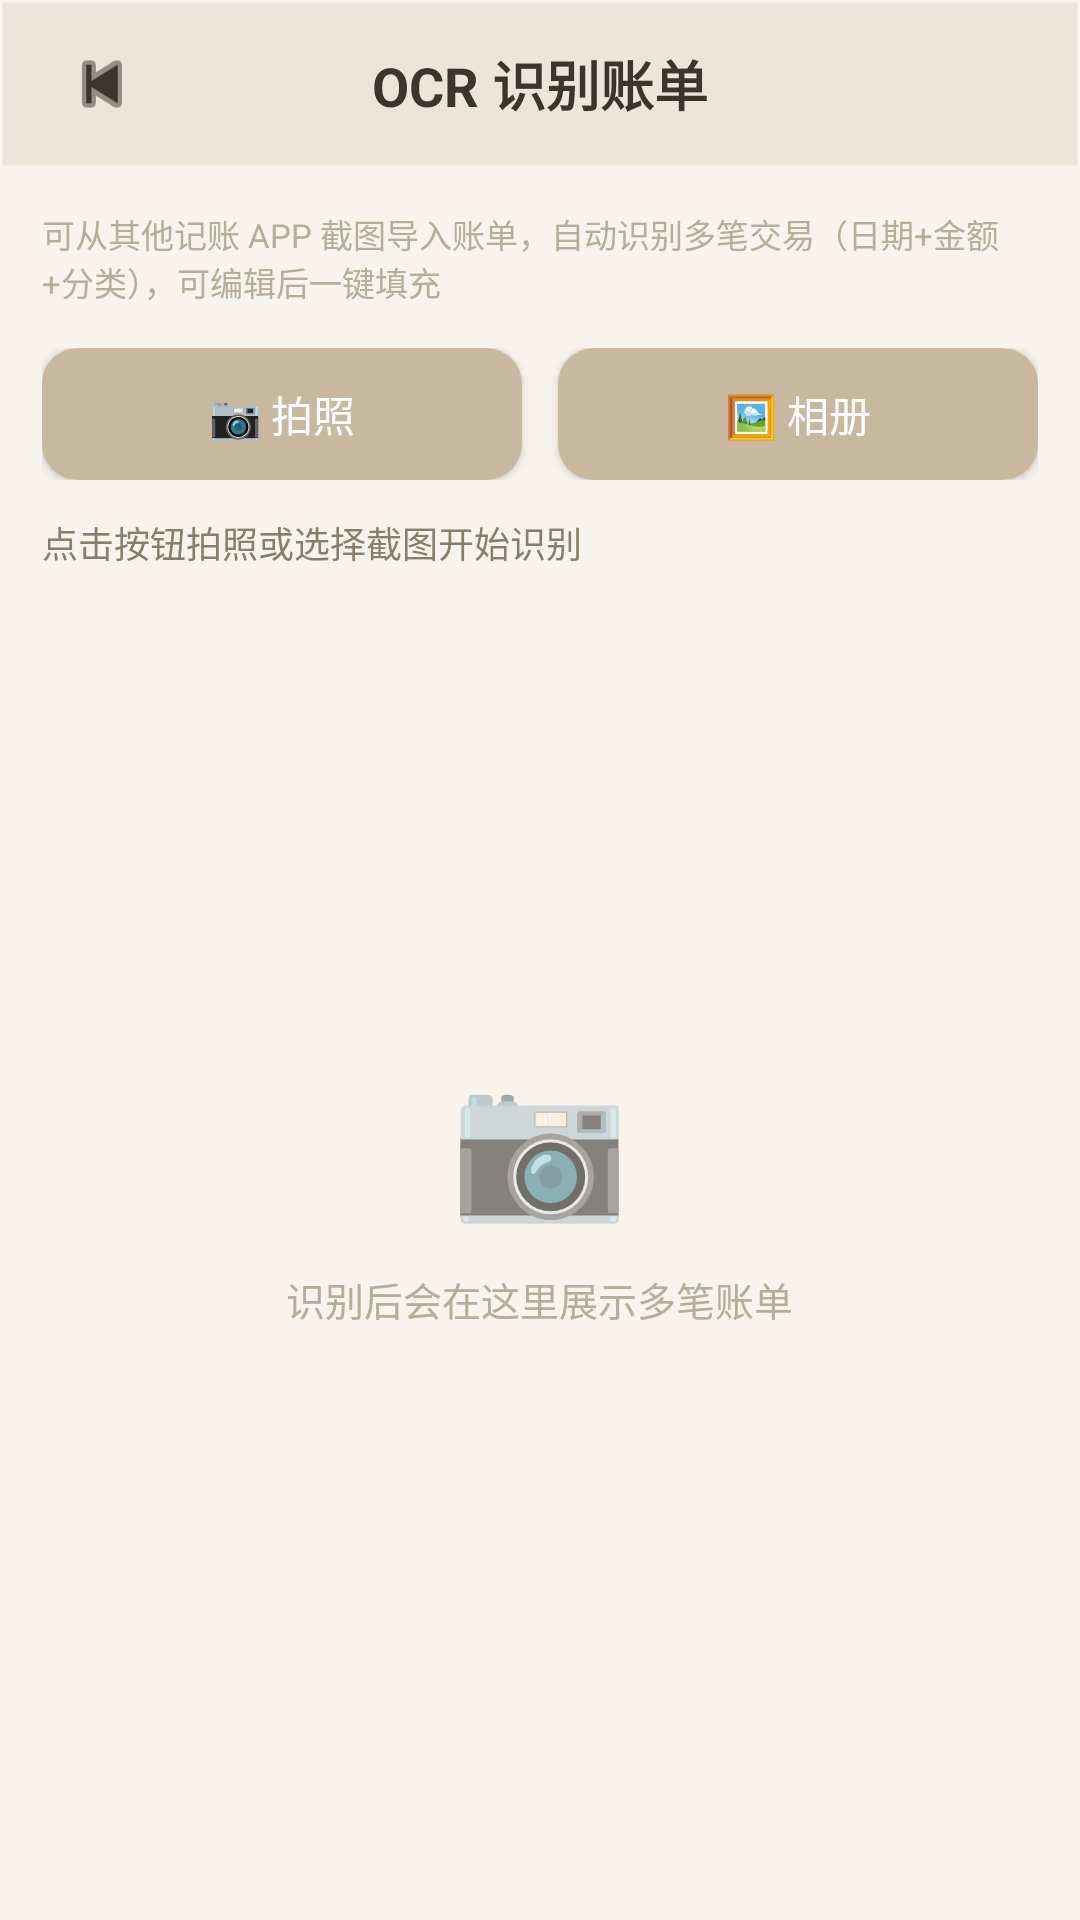

Locate icon controls on the screen. Image size 1080 × 1920, boxes as (x1,y1,x2,y2).
previous: (82,60,122,108)
